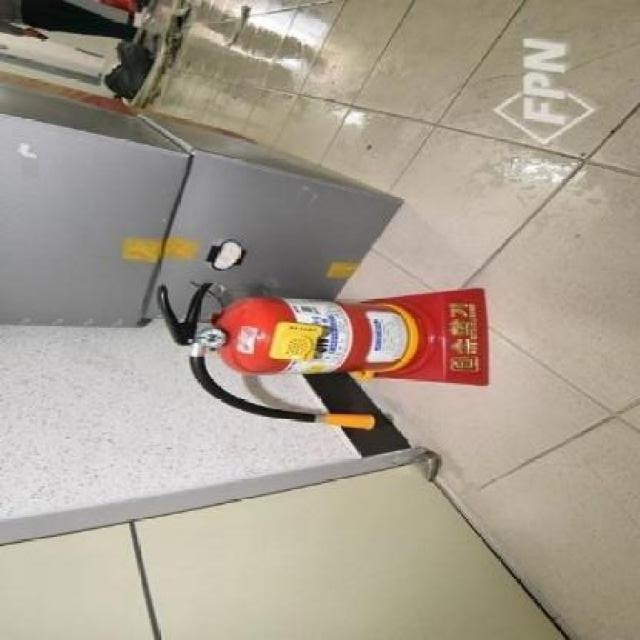fire extinguisher: (155, 280, 427, 431)
